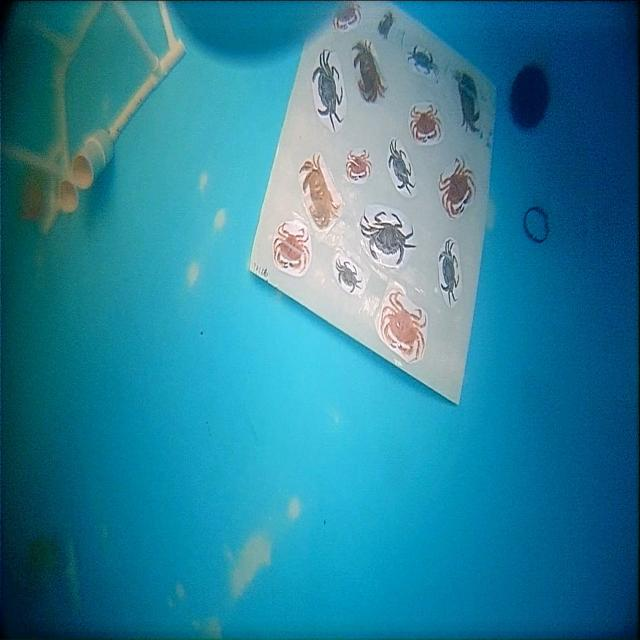GreenCrab: (360, 211, 416, 265), (312, 50, 342, 132), (388, 139, 415, 194), (439, 239, 459, 306)
